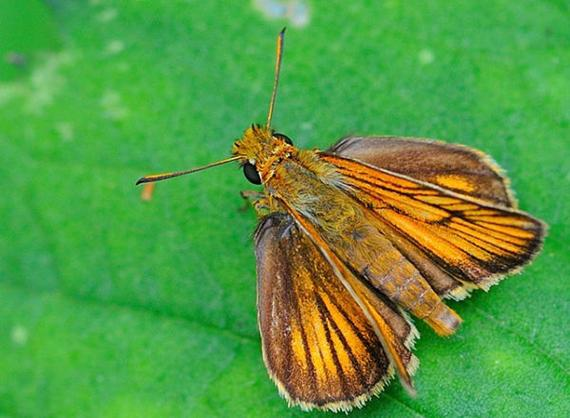Hesperiidae: (134, 25, 549, 409)
